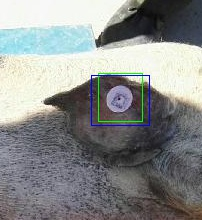text: (98, 73, 142, 121)
